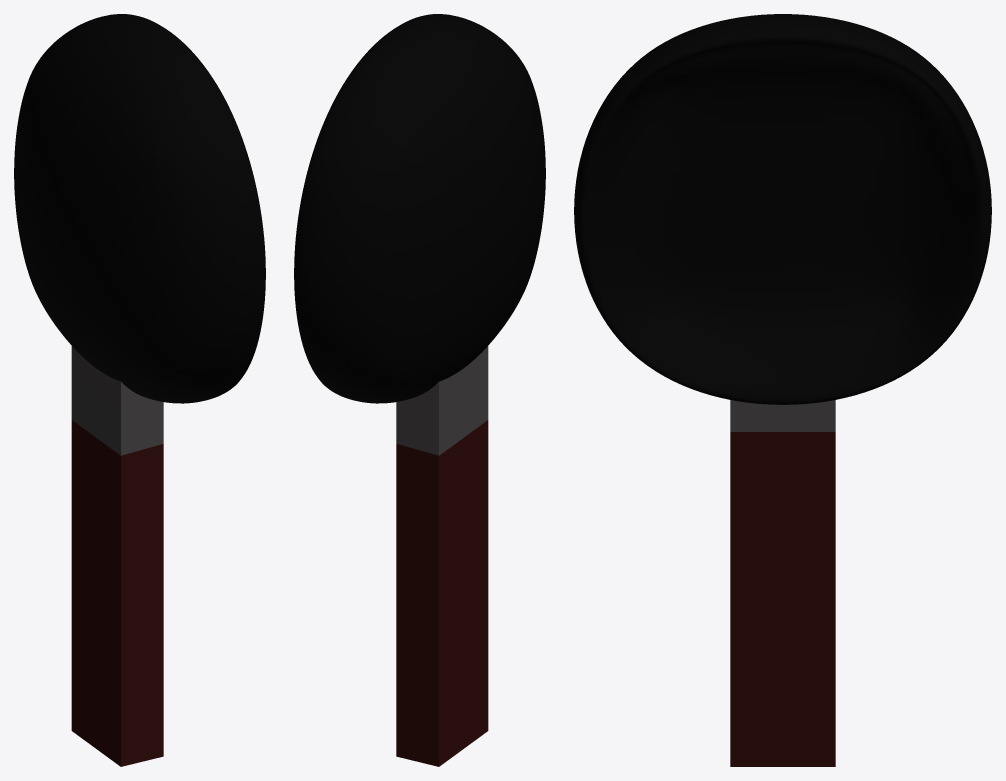
Rendered from Pan.fbx.
3 renders of one model, left to right at view 1: azimuth 30°, elevation 25°; view 2: azimuth 150°, elevation 25°; view 3: azimuth 270°, elevation 25°, orthographic. The views are drawn at different scales.
Parts seen in each view (by area): view 1: Cube.002, Cube; view 2: Cube.002, Cube; view 3: Cube.002, Cube.
Part boxes in pixels (left/top/right/bottom): Cube.002: left=14, top=14, right=265, bottom=403; Cube: left=71, top=346, right=163, bottom=766; Cube.002: left=294, top=14, right=545, bottom=403; Cube: left=396, top=346, right=488, bottom=766; Cube.002: left=574, top=14, right=991, bottom=404; Cube: left=730, top=400, right=835, bottom=766.
Bounding box in the file's own units: 265 × 1573 × 791.
